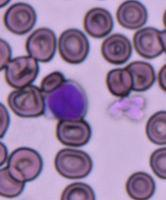L: (42, 79, 90, 121)
